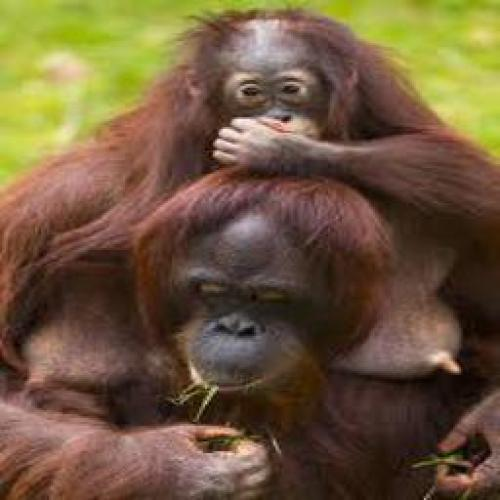orangutan-endangered: (15, 162, 490, 487), (132, 9, 491, 229)
